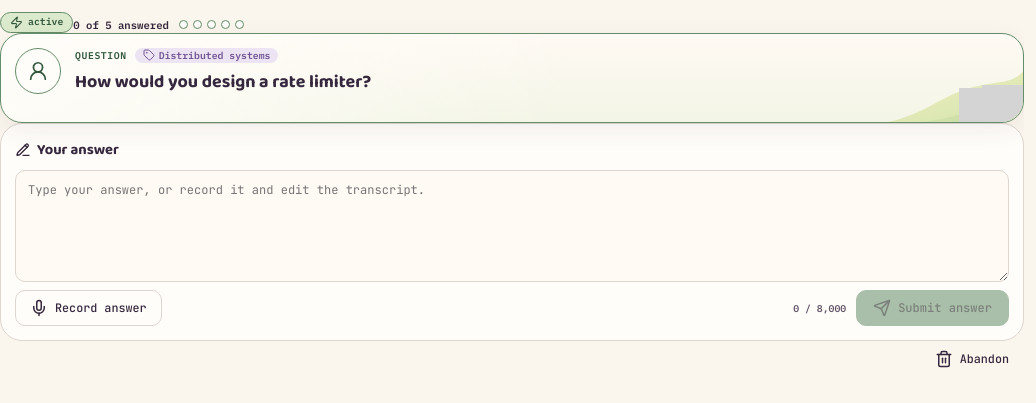
Scenario: voice answers › records with real levels, transcribes into editable text and links the audio on submit
Later steps or results of the test are not shown.
Click the button "Record answer" at (88, 308), box [15,290,162,326]
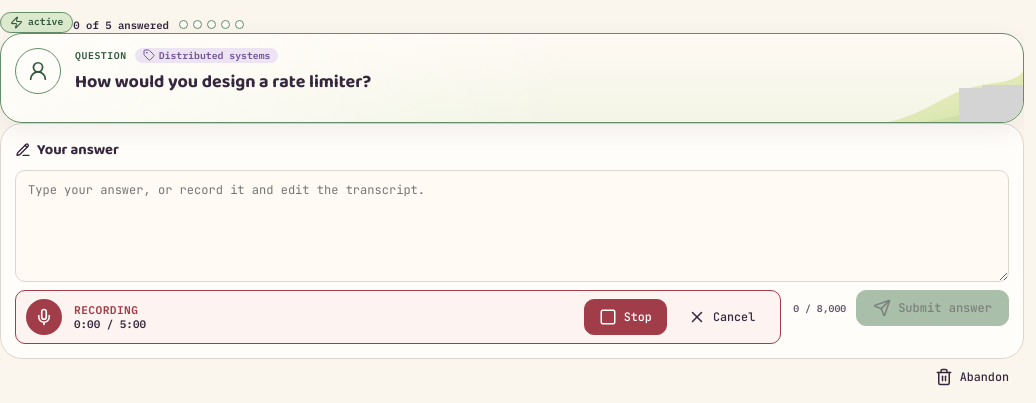
Now the text "0:00 / 5:00" is shown, box [74,317,146,331]
